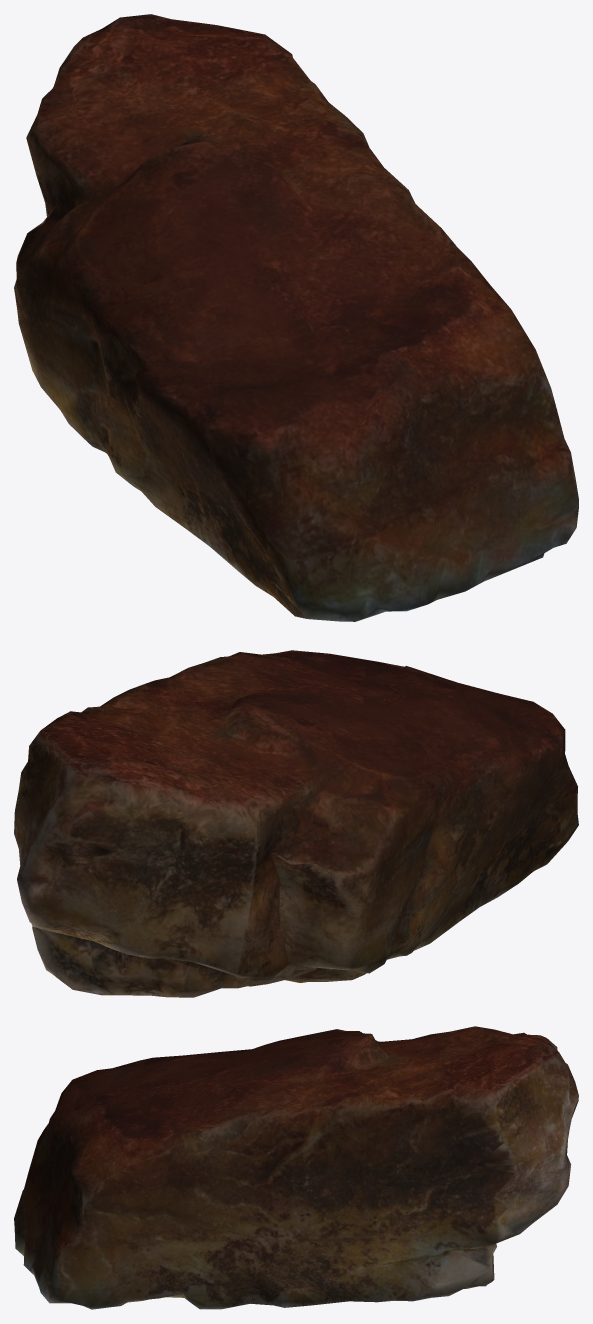
Rendered from rock_07.glb.
3 renders of one model, top to bottom at view 1: azimuth 30°, elevation 25°; view 2: azimuth 150°, elevation 25°; view 3: azimuth 270°, elevation 25°, orthographic. The views are drawn at different scales.
Visible parts, largest first — view 1: rock_07; view 2: rock_07; view 3: rock_07.
Part boxes in pixels (x1,y1,x2,y2): rock_07: (14, 14, 578, 621); rock_07: (14, 650, 578, 997); rock_07: (14, 1026, 578, 1309).
Size of the model in its own units: 0.168 by 0.1435 by 0.3205.
1 material, 1 textured.
